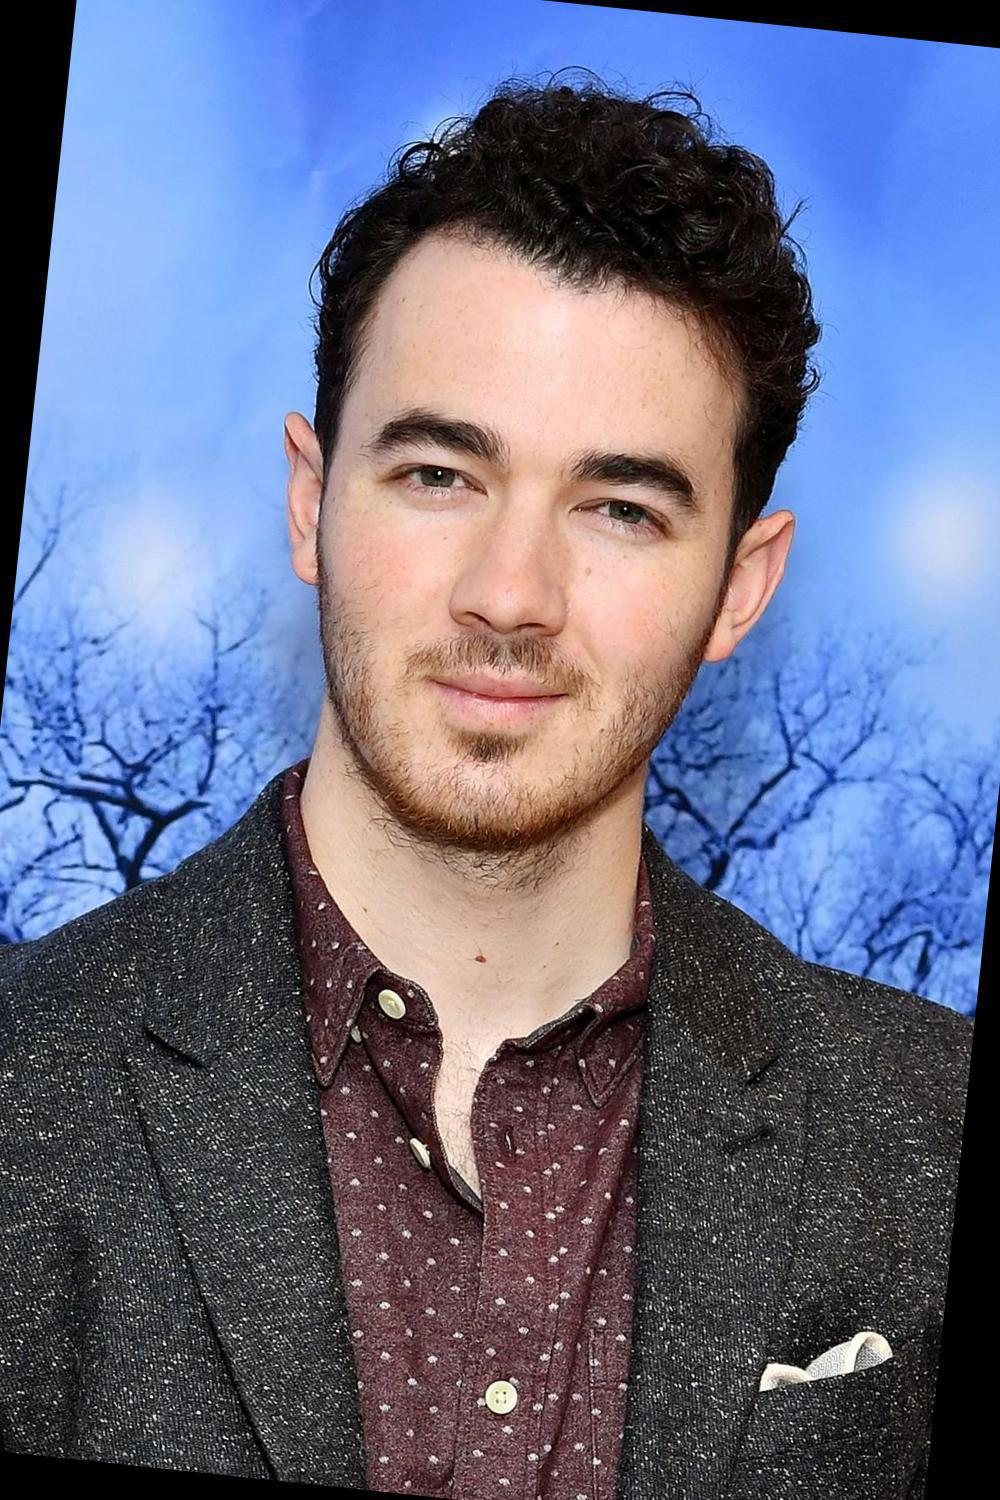Sober: (350, 261, 733, 815)
